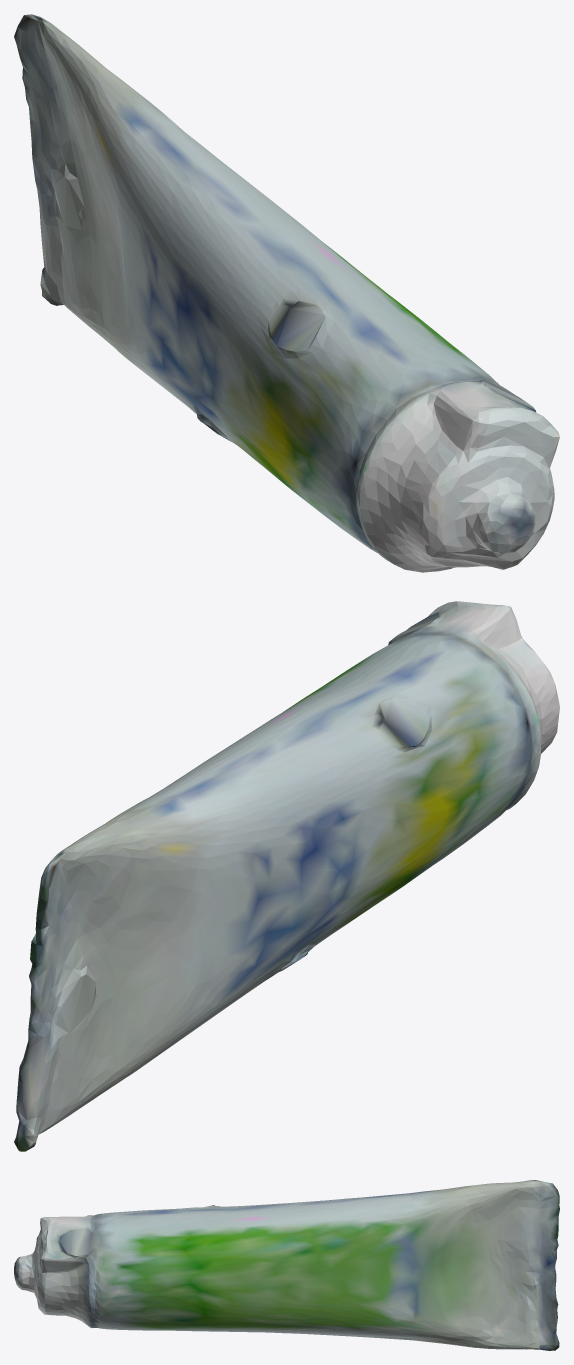
Rendered from scan.obj.
3 views of the same model, one above another, from view 1: azimuth 30°, elevation 25°; view 2: azimuth 150°, elevation 25°; view 3: azimuth 270°, elevation 25° (orthographic). The views are drawn at different scales.
Parts seen in each view (by area): view 1: scan.ply; view 2: scan.ply; view 3: scan.ply.
Boxes of the visible parts, x1,y1,x2,y2 form: scan.ply: (14, 14, 559, 572); scan.ply: (14, 601, 559, 1151); scan.ply: (14, 1180, 559, 1350).
Size of the model in its own units: 0.0343 by 0.0548 by 0.1648.
